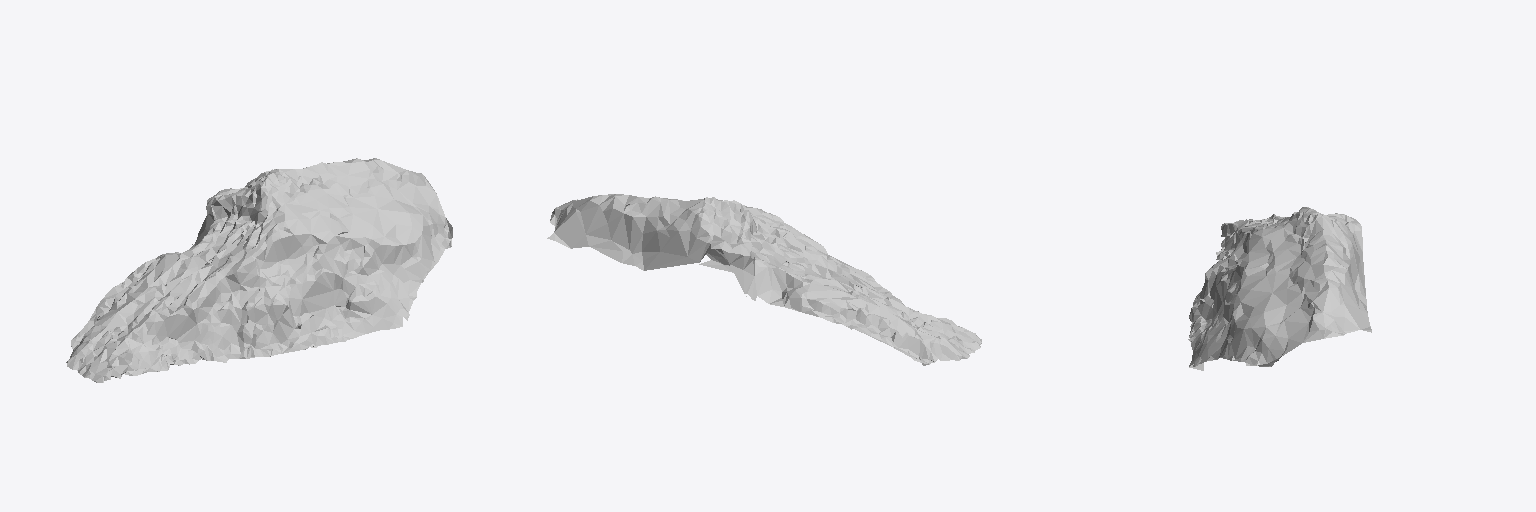
The model's file is CleanedLimestone2ReducedAlot.obj.
The picture shows the model from 3 angles: view 1: azimuth 30°, elevation 25°; view 2: azimuth 150°, elevation 25°; view 3: azimuth 270°, elevation 25°; orthographic projection.
Size of the model in its own units: 49.11 by 15.21 by 20.19.